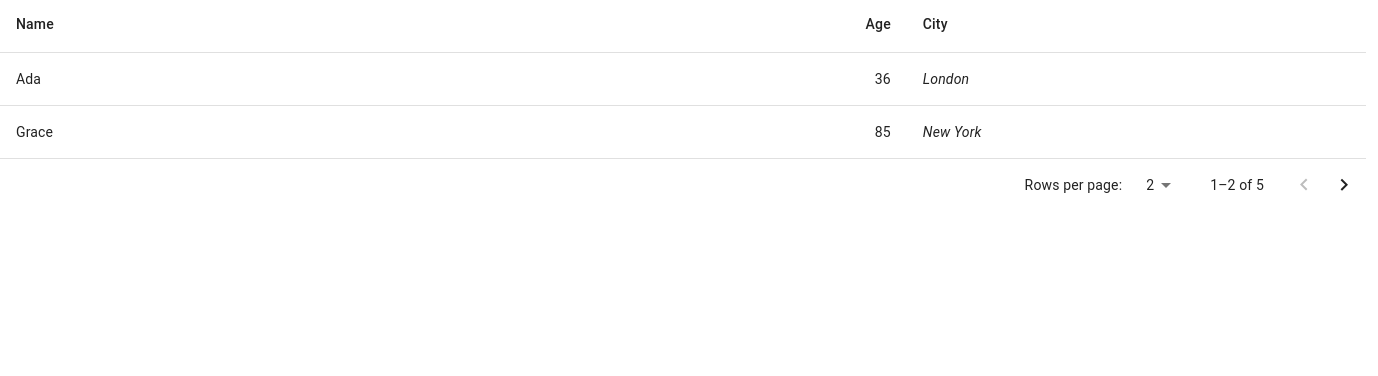
Test: <DataTable> › pages rows and resets to the first page when the page size or sort changes
Expected: the text "1–2 of 5" is shown, [1210,175,1264,195]
Click the button named "Go to next page" at (1344, 185), box [1324,165,1364,205]
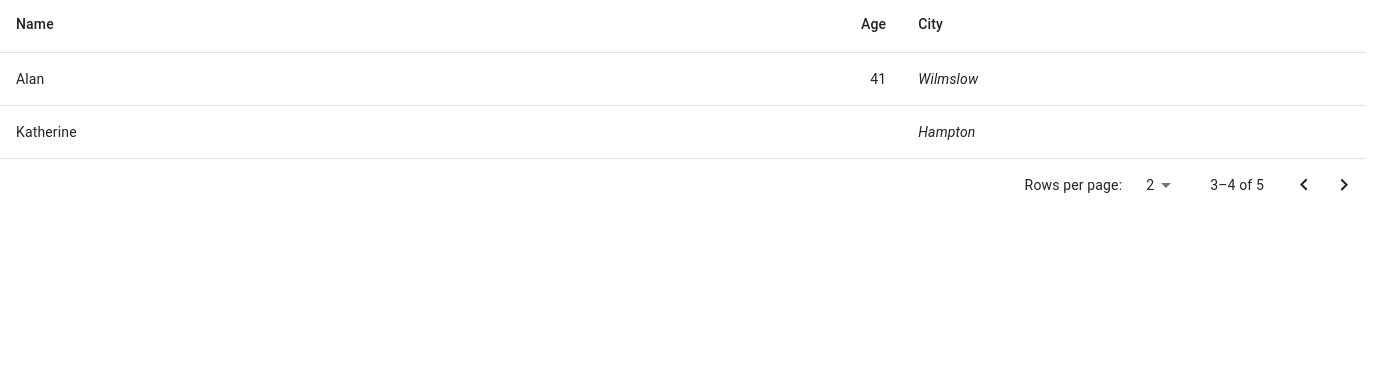
Click the button "Name" at (35, 24), box [16,16,54,32]
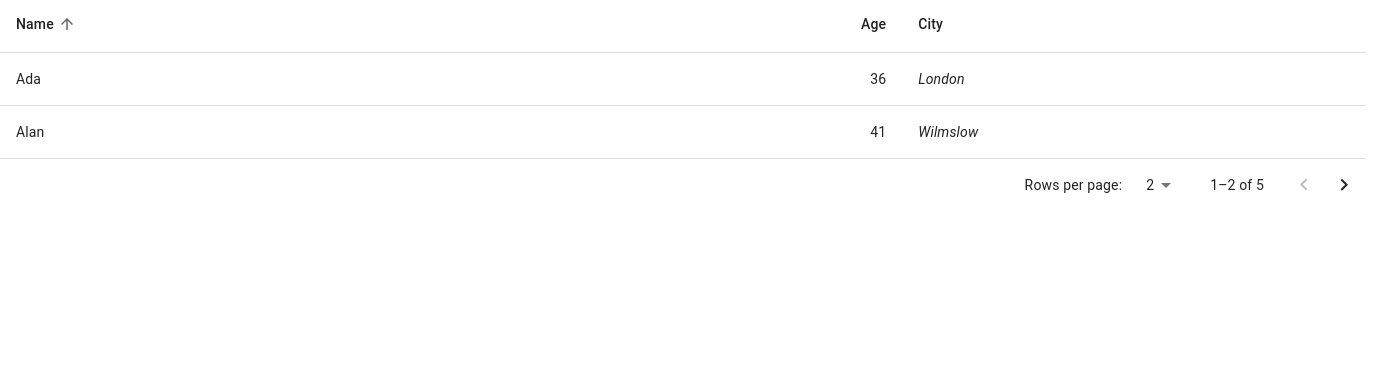
Click the button named "Go to next page" at (1344, 185), box [1324,165,1364,205]
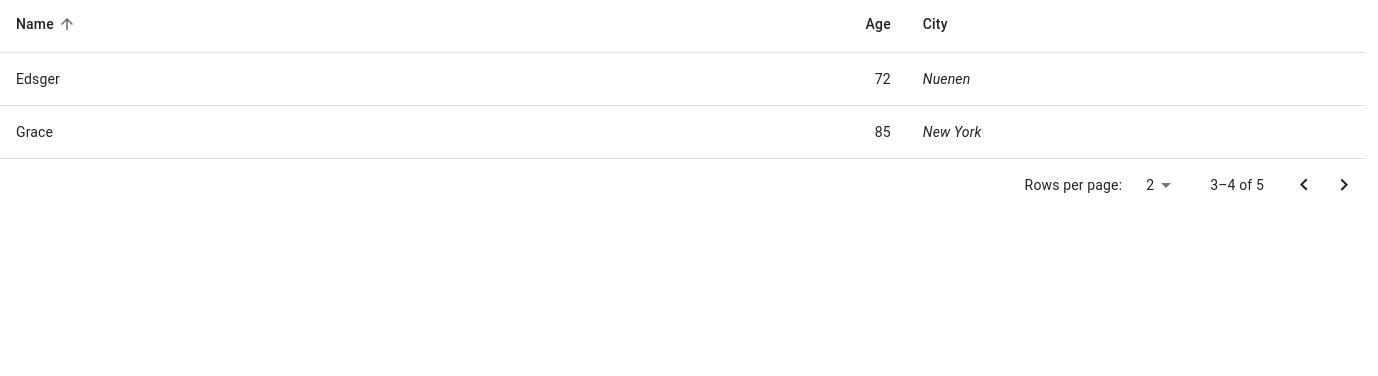
Click the dropdown named "Rows per page" at (1150, 185), box [1146,177,1154,193]
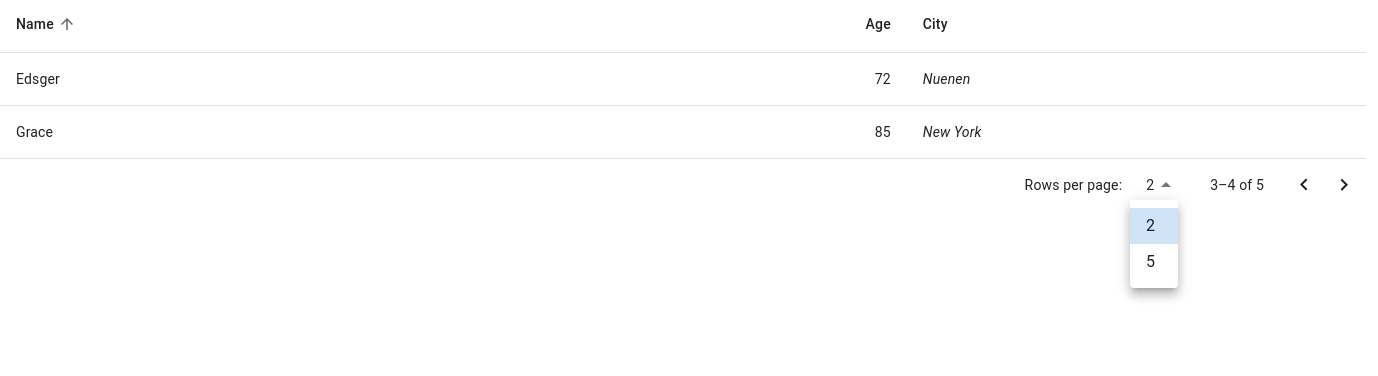
Click the option "5" at (1151, 262), box [1146,252,1155,271]
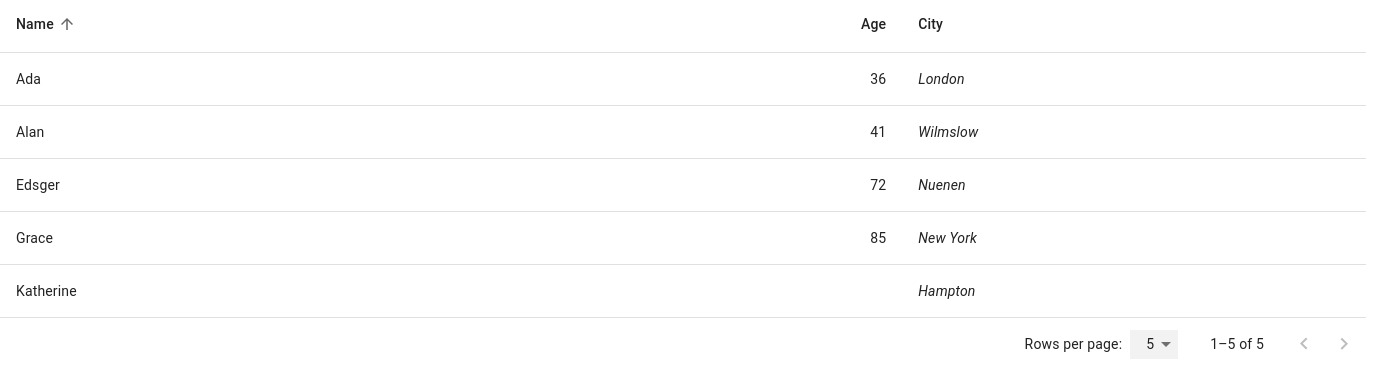
Expected: the text "1–5 of 5" is shown, [1210,334,1264,354]
